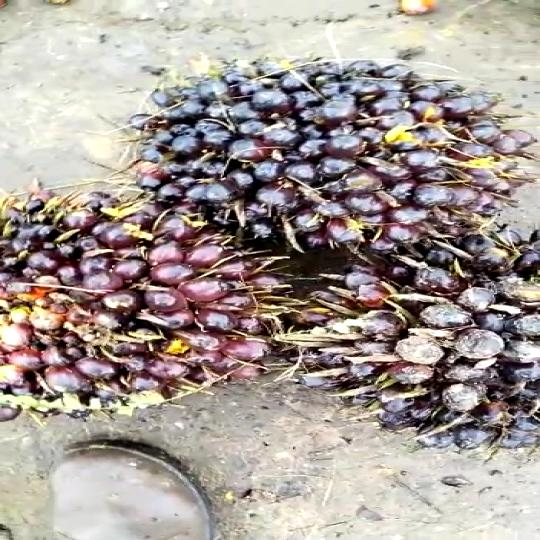mentah: (127, 50, 540, 254), (247, 217, 540, 456), (0, 174, 246, 424)
